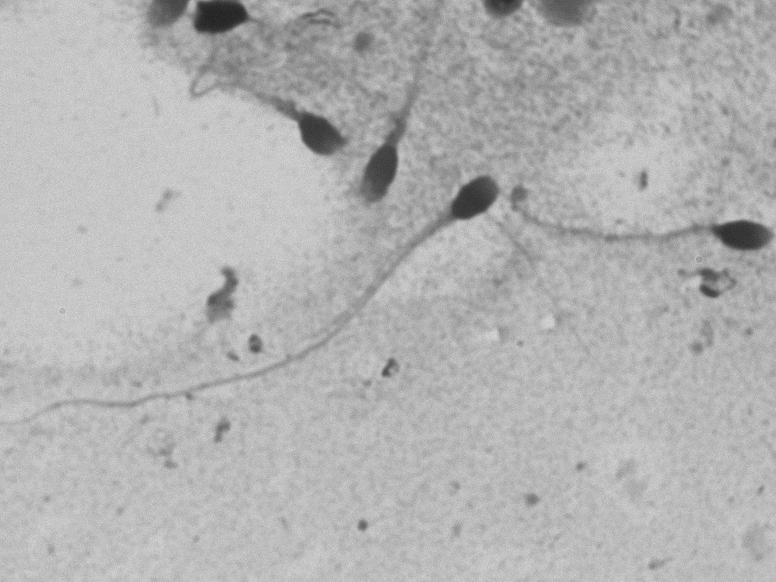Abnormal: (528, 156, 773, 291), (344, 45, 444, 210)
Normal: (8, 157, 514, 449)
